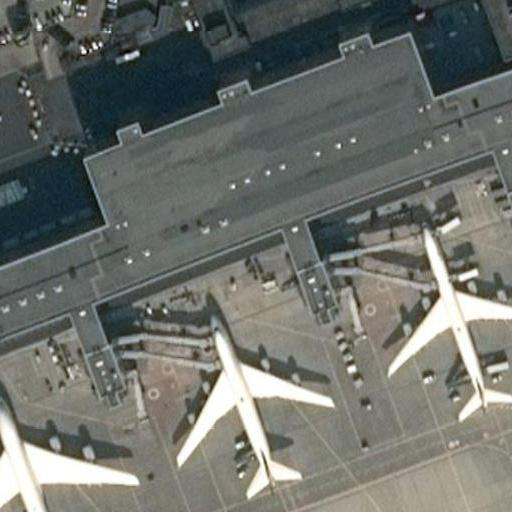Aircraft: (169, 313, 340, 498), (376, 215, 512, 424), (0, 389, 141, 512)
